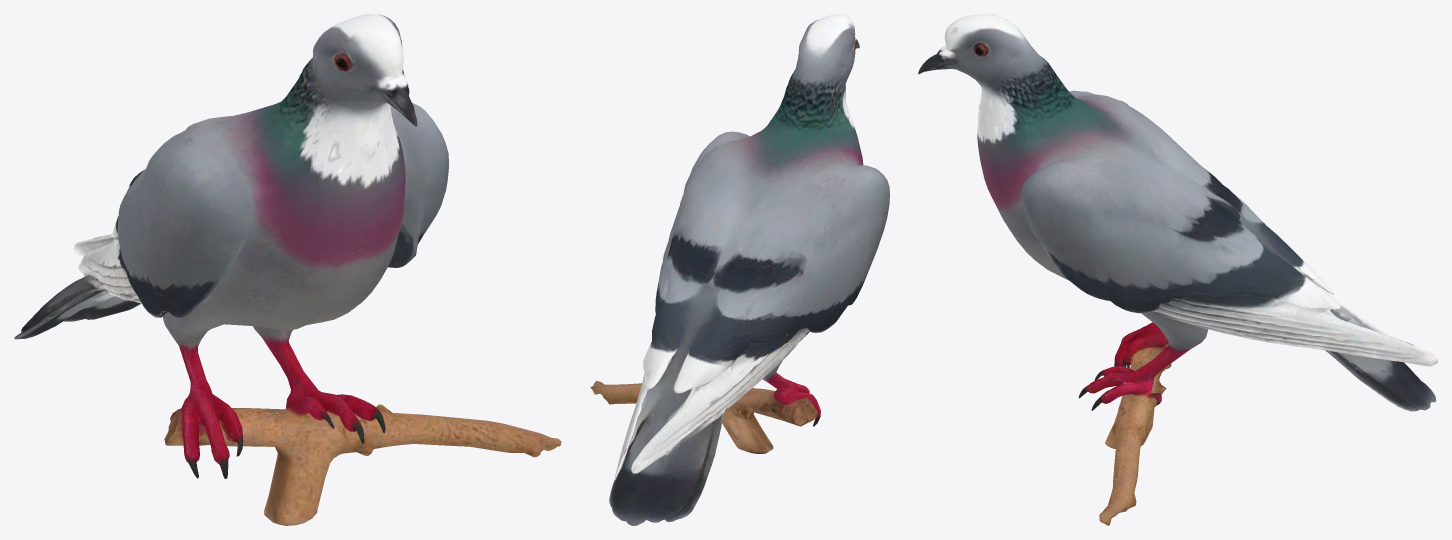
File: bird-houtduif.glb
The picture shows the model from 3 angles, left to right: view 1: azimuth 30°, elevation 25°; view 2: azimuth 150°, elevation 25°; view 3: azimuth 270°, elevation 25°; orthographic projection. The views are drawn at different scales.
Size of the model in its own units: 1.29 by 1.71 by 1.91.
Materials: 1 (1 with a texture image).
